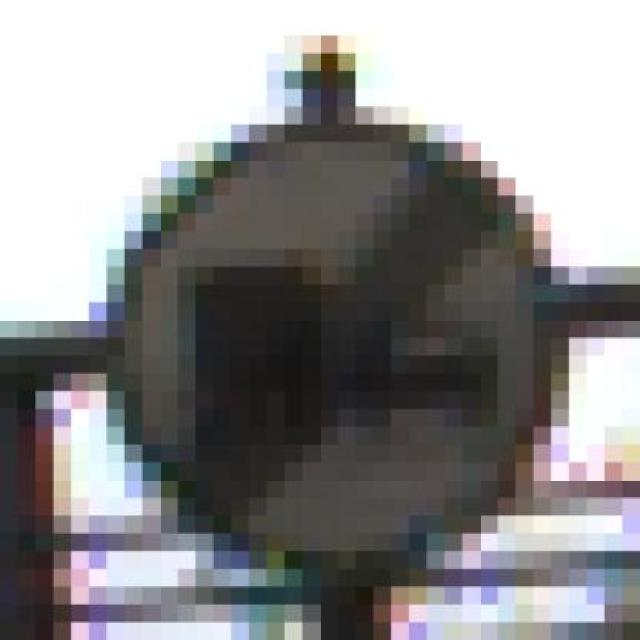Overtaking by trucks is prohibited: (53, 72, 587, 622)
